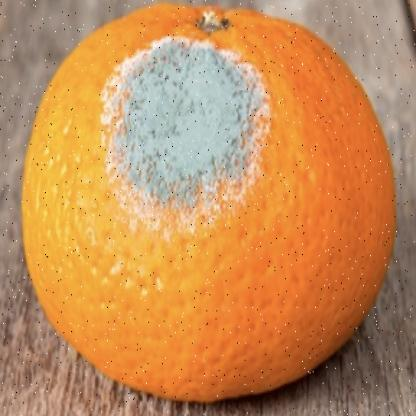rotten: (26, 4, 398, 404)
